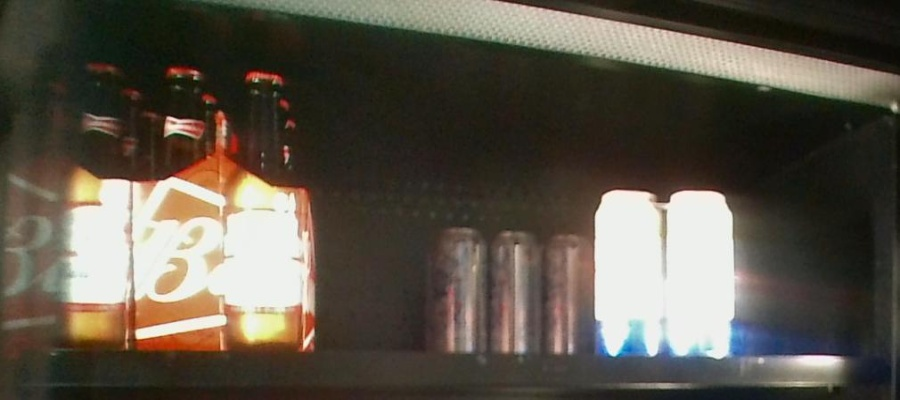bottle: (137, 61, 318, 347), (1, 57, 133, 348), (593, 186, 735, 354), (437, 226, 592, 351)
